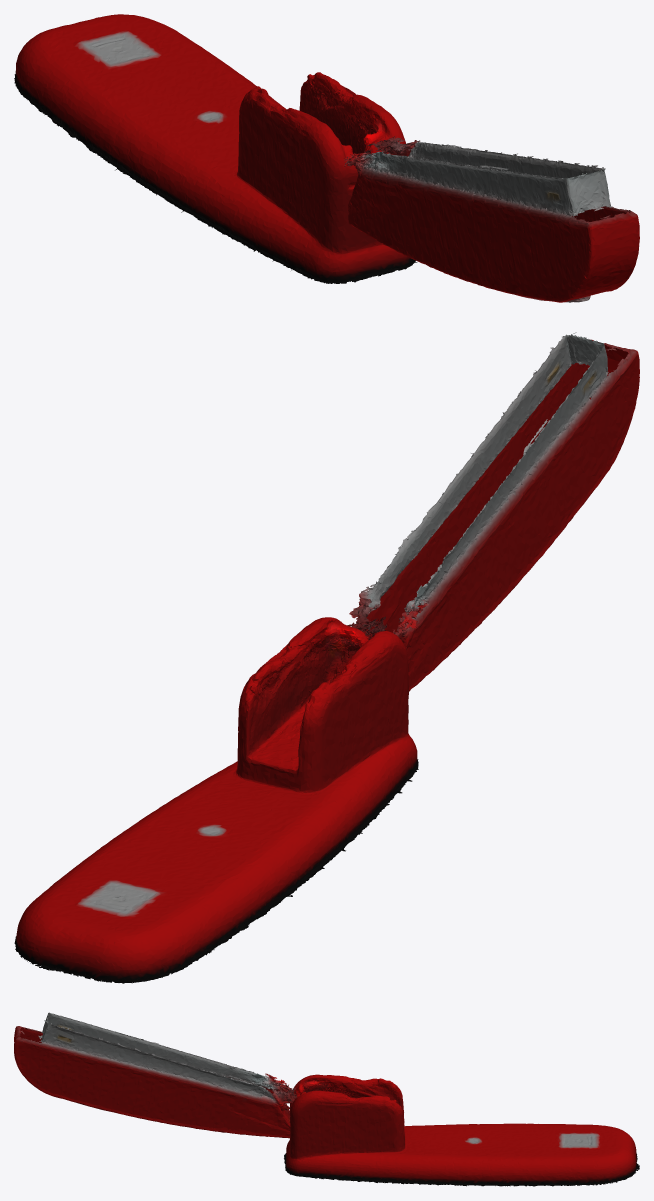
Rendered from stapler_103111.glb.
3 renders of one model, top to bottom at view 1: azimuth 30°, elevation 25°; view 2: azimuth 150°, elevation 25°; view 3: azimuth 270°, elevation 25°, orthographic. The views are drawn at different scales.
Visible parts, largest first — view 1: stapler_103111_start_0, stapler_103111_start_1; view 2: stapler_103111_start_0, stapler_103111_start_1; view 3: stapler_103111_start_0, stapler_103111_start_1.
Boxes of the visible parts, box(x1,y1,x2,y2) form: stapler_103111_start_0: box(14, 14, 417, 283); stapler_103111_start_1: box(343, 136, 639, 302); stapler_103111_start_0: box(14, 617, 418, 983); stapler_103111_start_1: box(330, 332, 639, 691); stapler_103111_start_0: box(284, 1074, 639, 1186); stapler_103111_start_1: box(14, 1012, 296, 1138).
Size of the model in its own units: 0.6255 by 0.8666 by 3.36.
